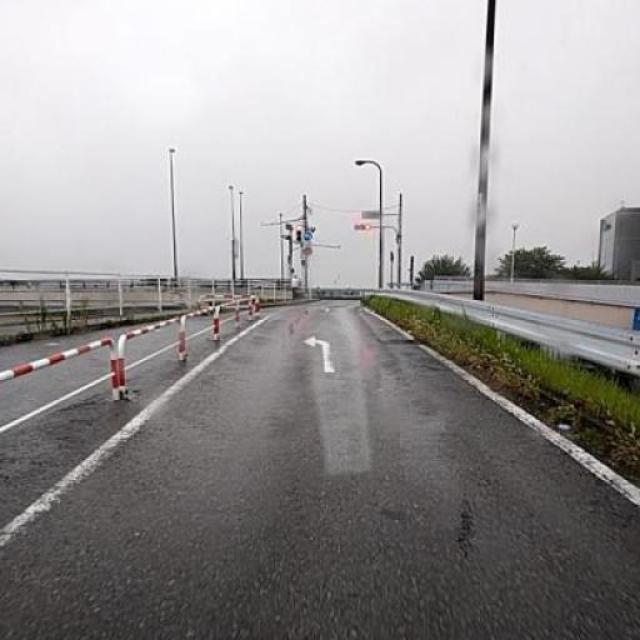Guard rail: (378, 291, 639, 373)
